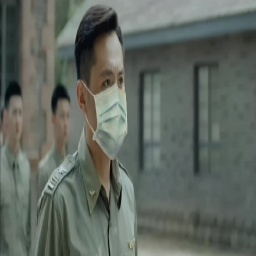correctlyWear: (75, 62, 128, 160)
noWear: (6, 100, 26, 141), (51, 104, 72, 142)
